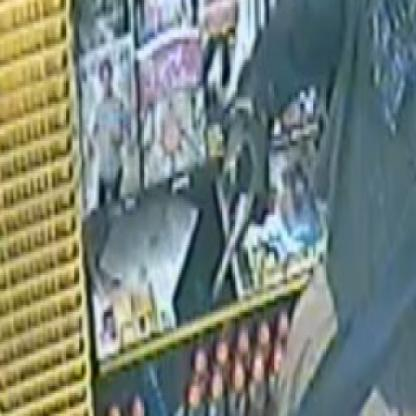gun: (195, 127, 274, 312)
